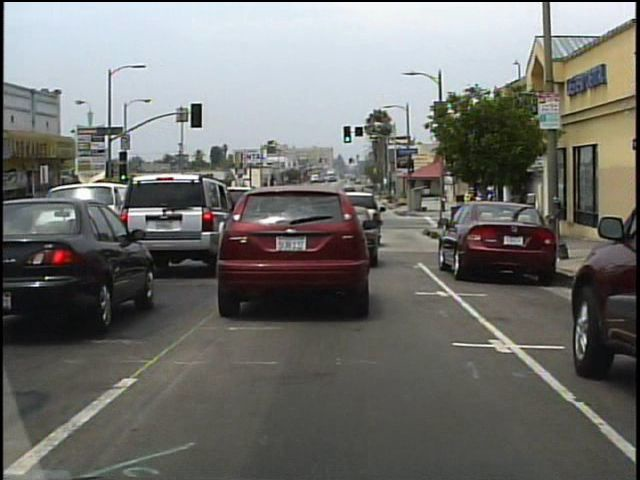person: (477, 195, 490, 240), (463, 194, 476, 239)
